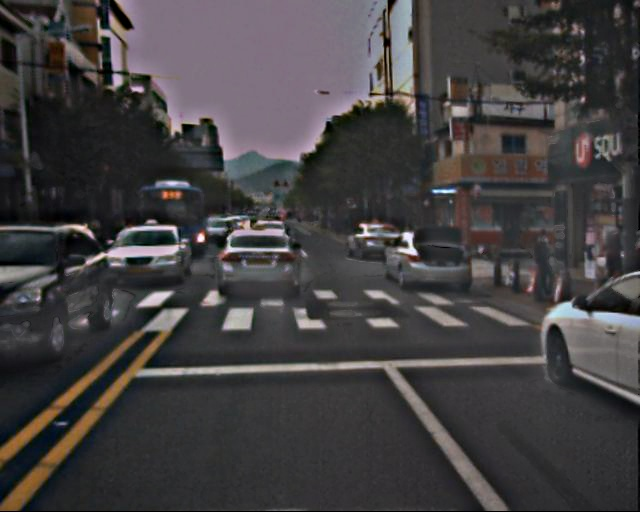person: (599, 221, 631, 300), (530, 226, 560, 299)
